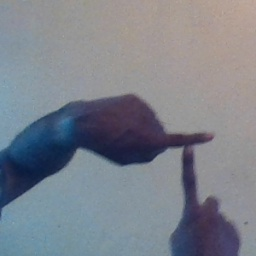T: (125, 97, 241, 221)
